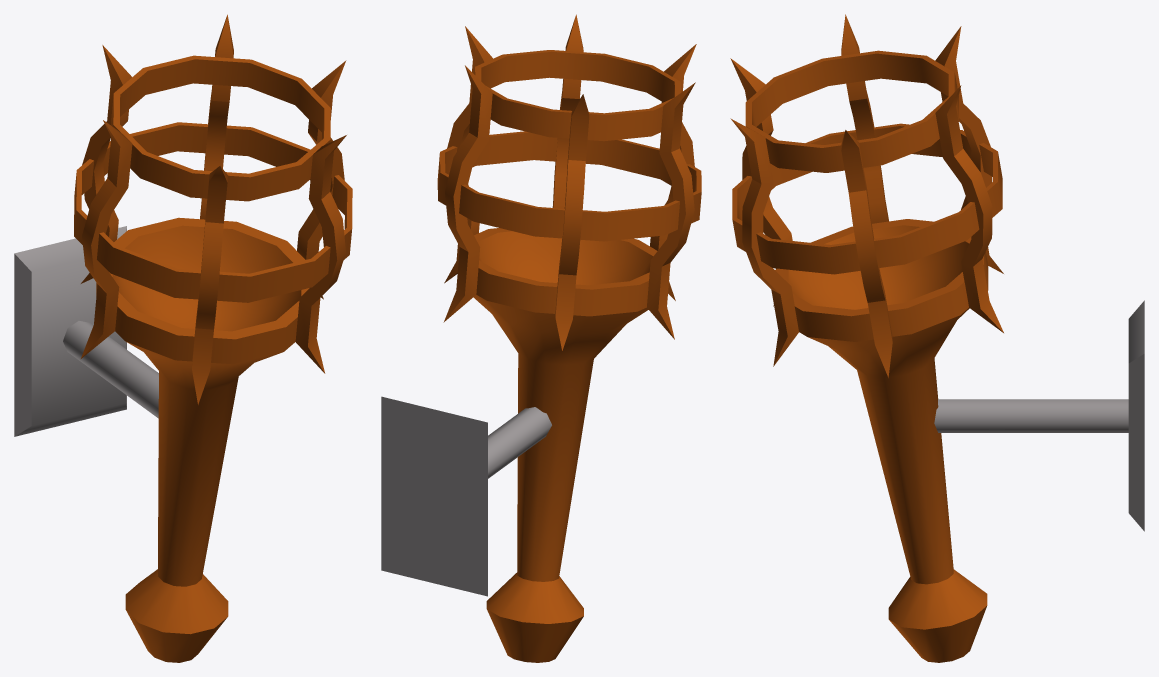
The model's file is 002 - TOCHEIRO.fbx.
3 views of the same model, side by side, from view 1: azimuth 30°, elevation 25°; view 2: azimuth 150°, elevation 25°; view 3: azimuth 270°, elevation 25° (orthographic). The views are drawn at different scales.
Visible parts, largest first — view 1: TOCHEIRO, ESTRUTURA LATERAL, CHAPA, PINO; view 2: TOCHEIRO, CHAPA, ESTRUTURA LATERAL, PINO; view 3: TOCHEIRO, ESTRUTURA LATERAL, PINO, CHAPA.
Part boxes in pixels (box(x1,y1,x2,y2)): TOCHEIRO: box(74, 55, 352, 662); ESTRUTURA LATERAL: box(81, 14, 346, 404); CHAPA: box(14, 226, 126, 436); PINO: box(63, 321, 158, 418); TOCHEIRO: box(437, 50, 701, 662); CHAPA: box(381, 396, 487, 596); ESTRUTURA LATERAL: box(443, 14, 696, 350); PINO: box(488, 407, 551, 478); TOCHEIRO: box(732, 50, 1002, 662); ESTRUTURA LATERAL: box(730, 14, 1003, 377); PINO: box(934, 399, 1128, 432); CHAPA: box(1128, 300, 1144, 531).
Bounding box in the file's own units: 20.68 × 48.01 × 30.06.
